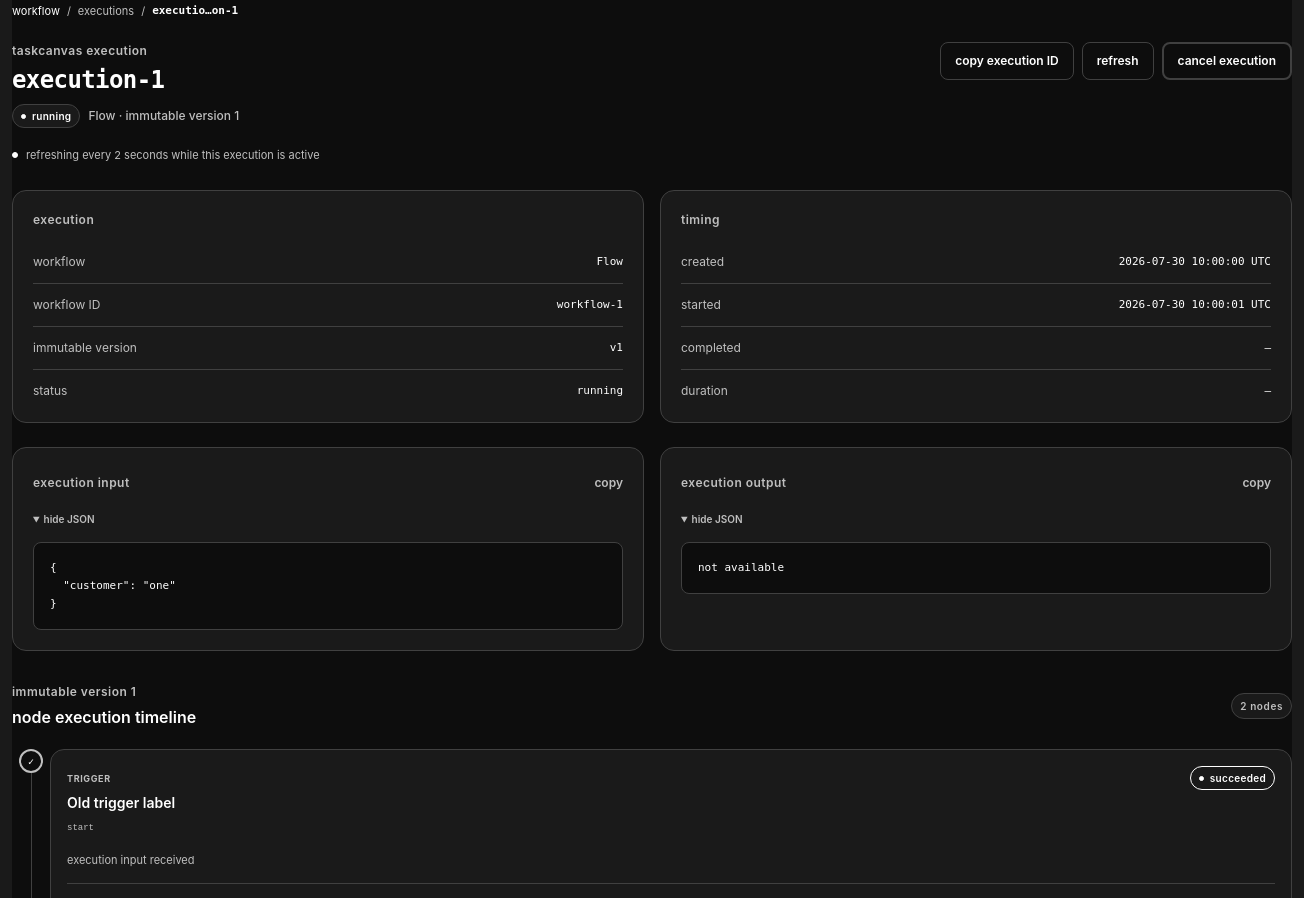
Test: WorkflowExecutionDetail › preserves the last successful state after transient polling failure
The image size is (1304, 898).
Click the button "refresh" at x=1118, y=61, box [1082,42,1154,80]
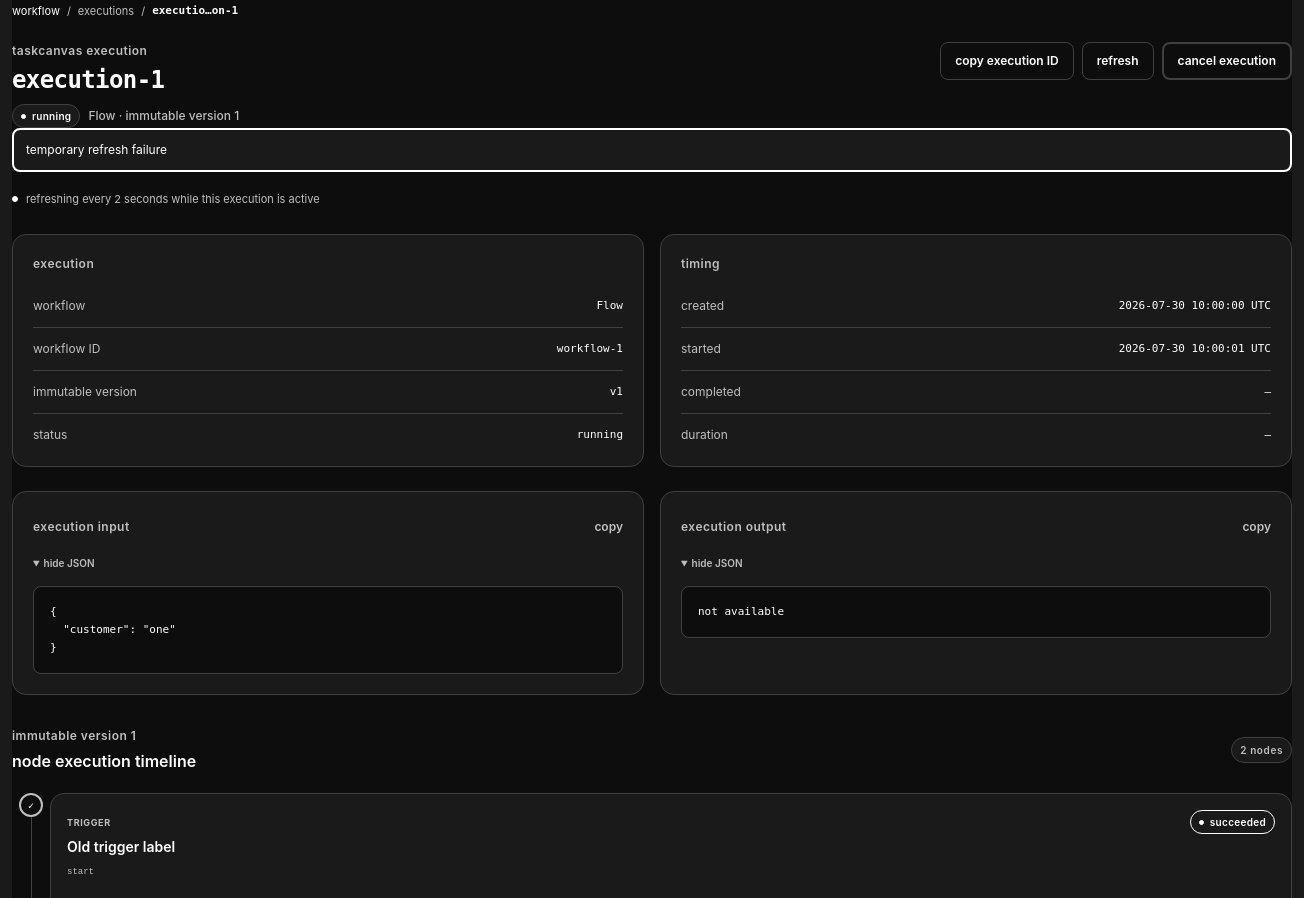
Expected: the text "running" is shown, [12,104,80,128]
Expected: the text "temporary refresh failure" is shown, [12,128,1292,172]
